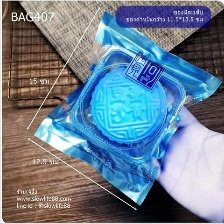snack: (29, 6, 224, 209)
